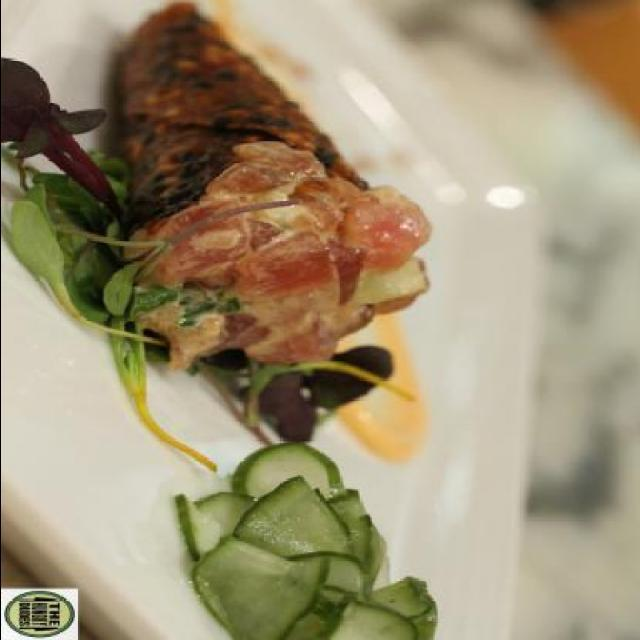Zucchini: (153, 454, 424, 636)
